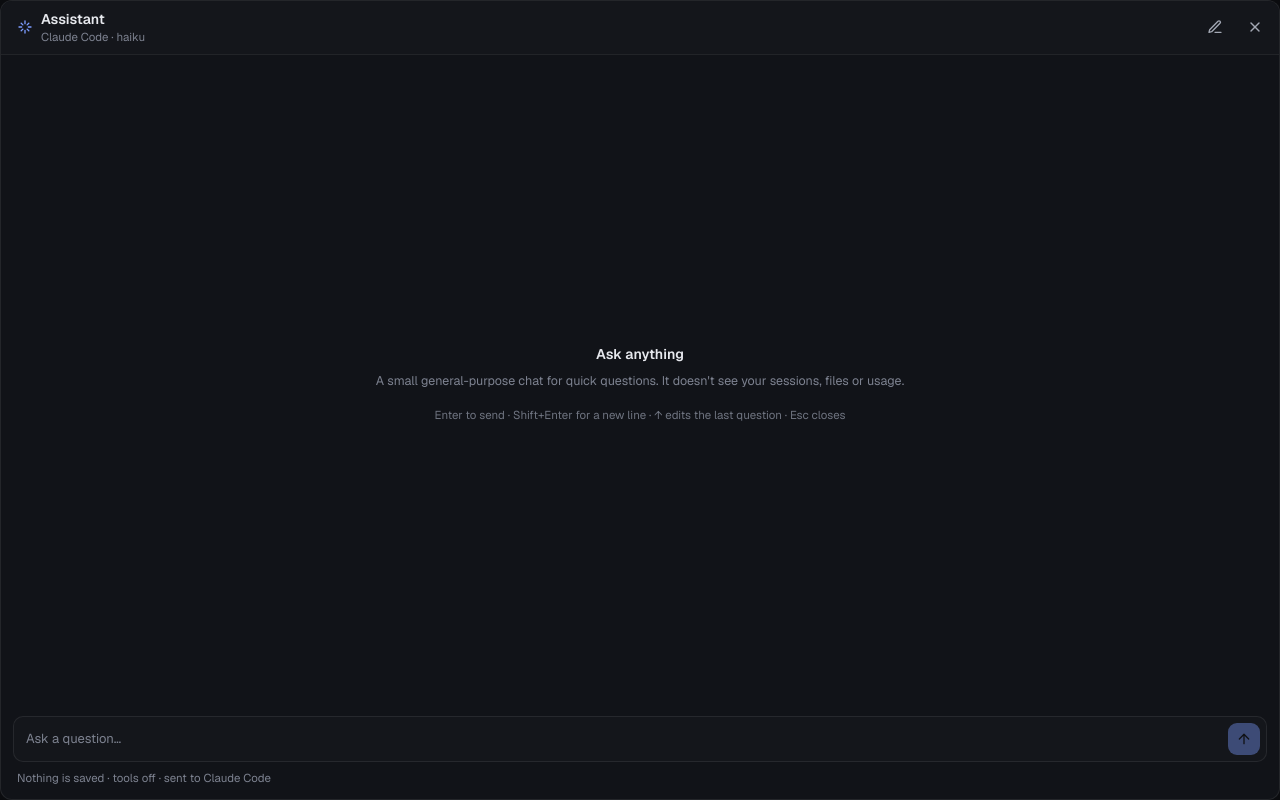
Test: AssistantView › ↑ in an empty composer puts the last question back and drops its turn
In the text box named "Message": (623, 740) [26,724,1220,755], type "first"
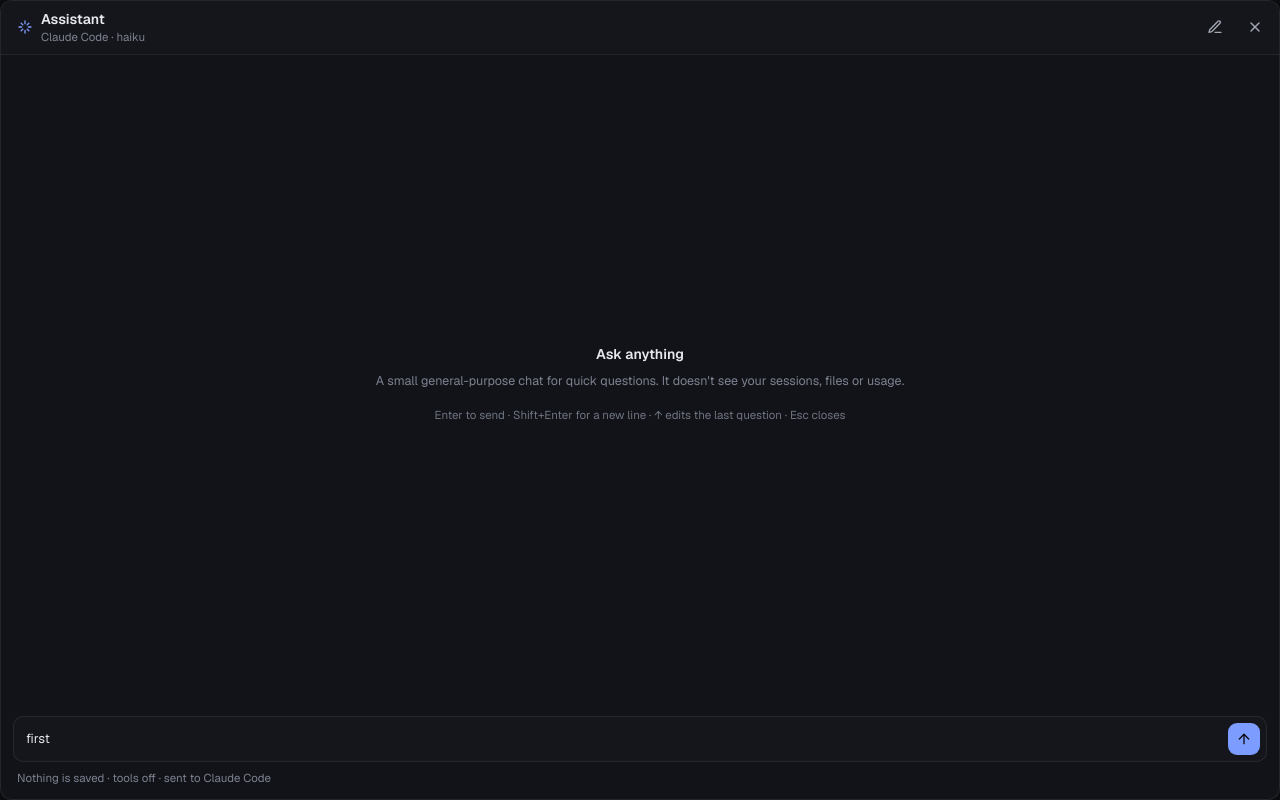
Press Enter in the text box named "Message", box [26,724,1220,755]
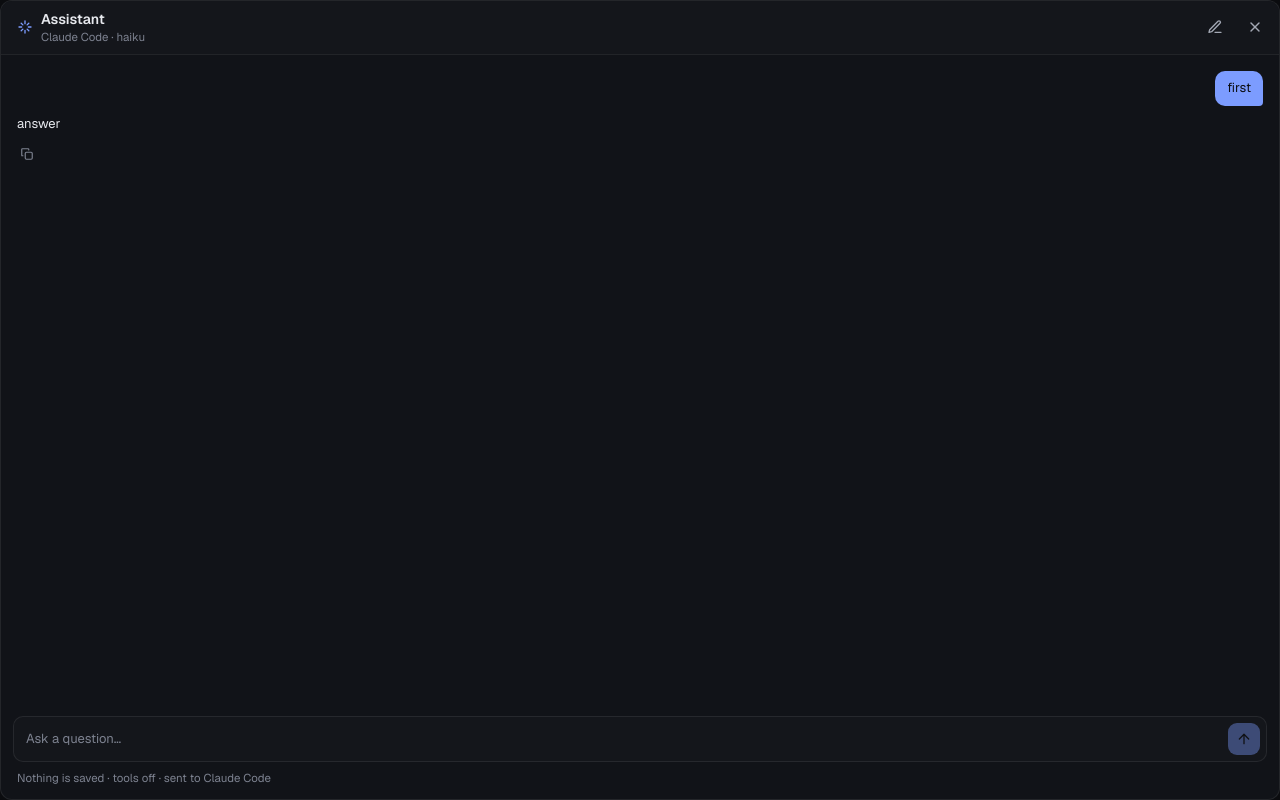
Check: the number of list items with test id "assistant-turn" is 1, box [17,71,1263,168]
Press ArrowUp in the text box named "Message", box [26,724,1220,755]
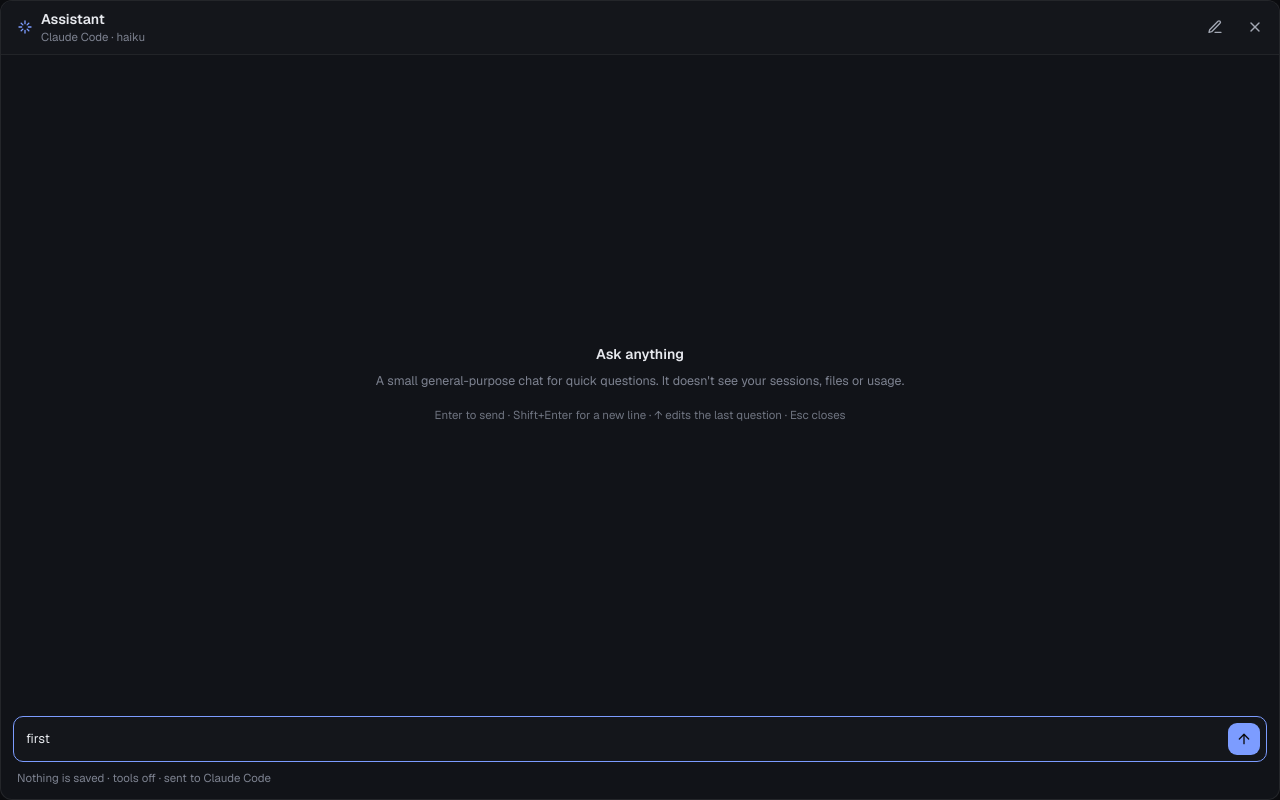
Check: no list items with test id "assistant-turn" are shown
